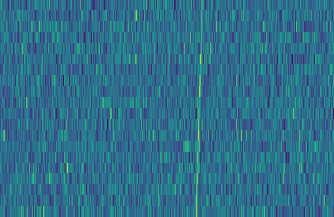signal: (191, 0, 207, 217)
